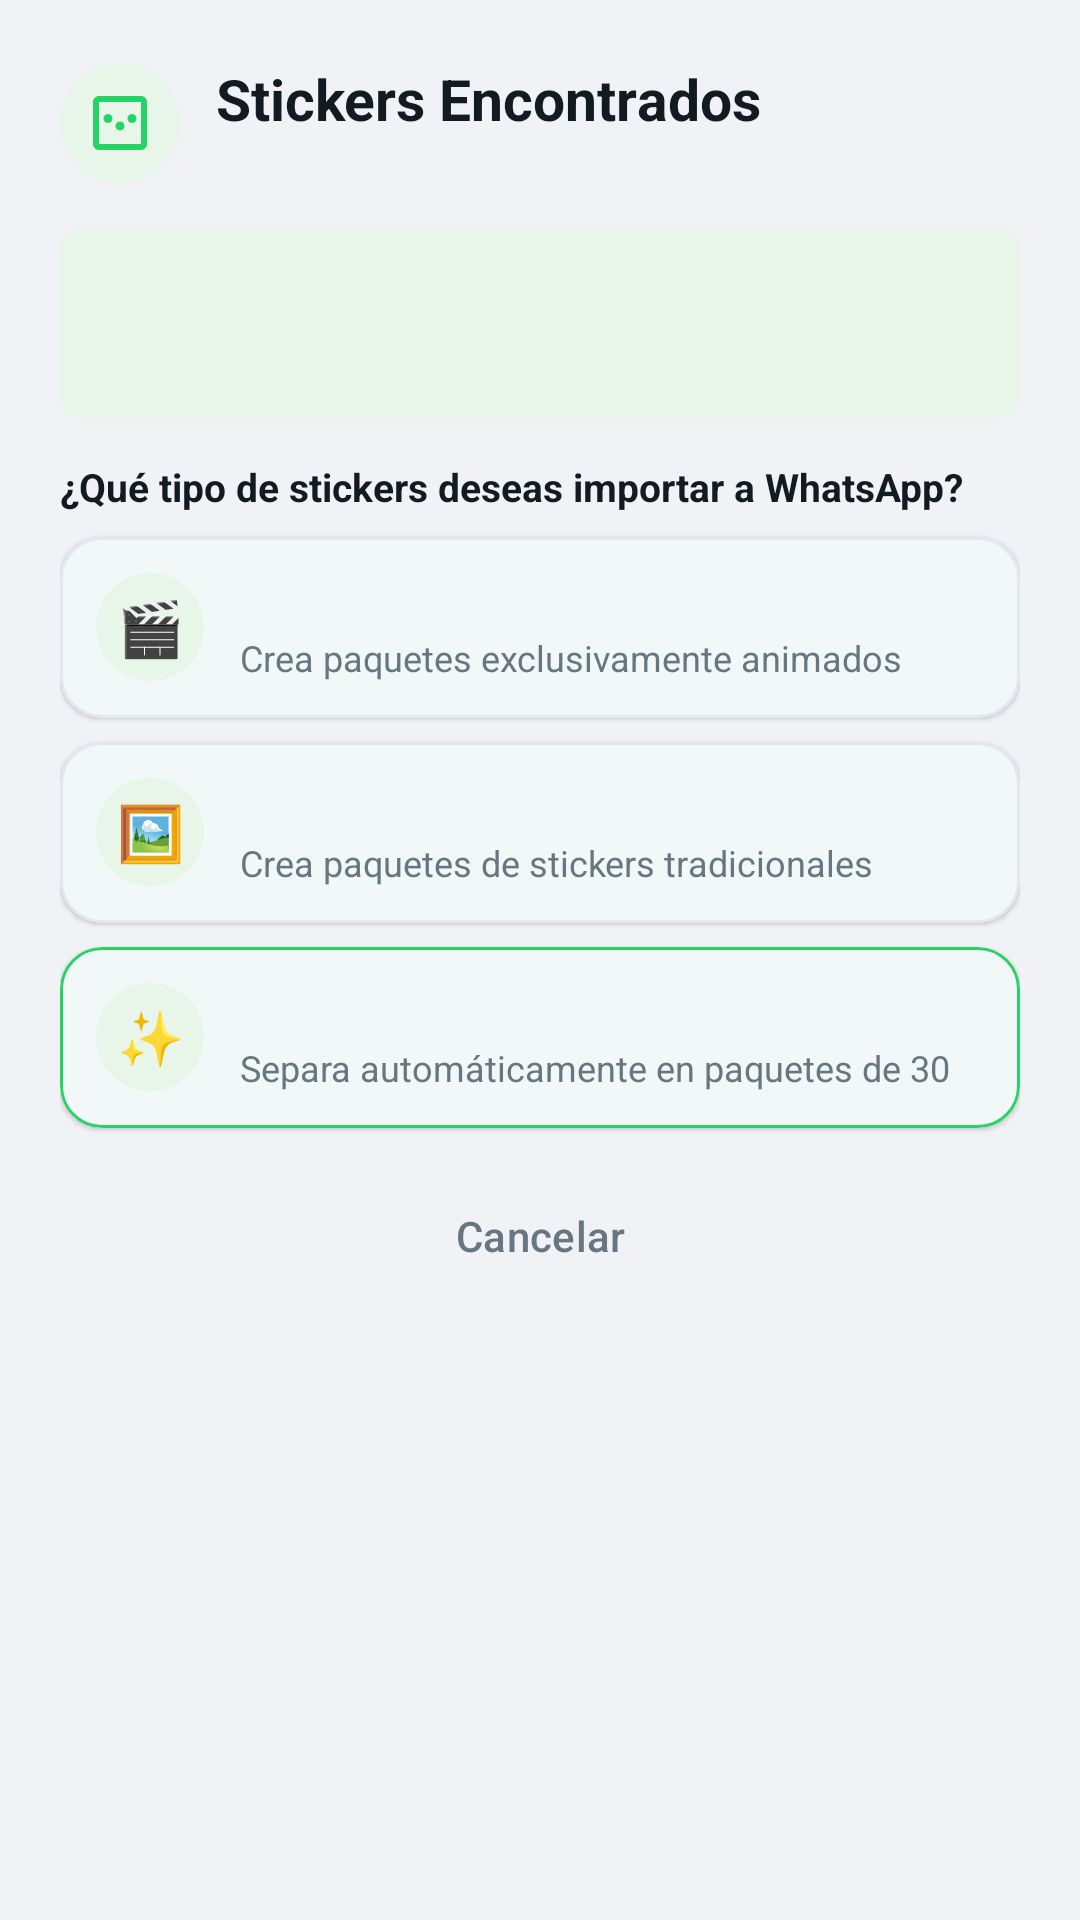

Locate icon controls on the screen. Image size 1080 x 1920, boxes as BBox(x1, y1, x2, y2).
sticker pack: BBox(60, 63, 180, 183)
